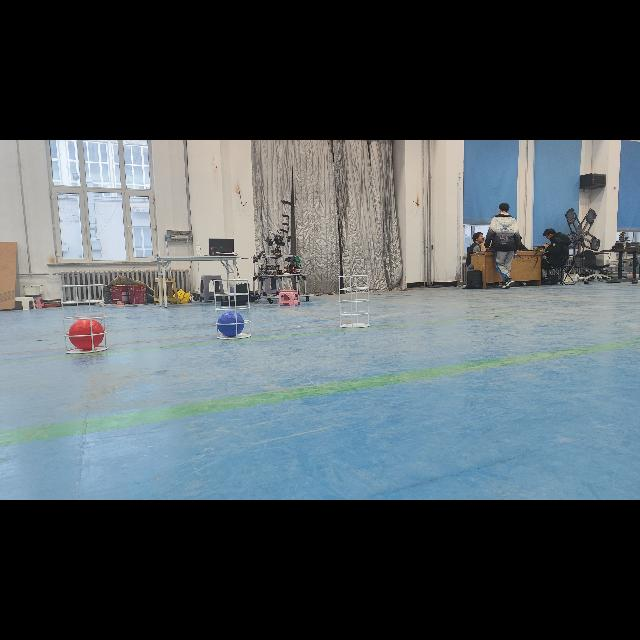B: (217, 312, 247, 336)
R: (67, 319, 105, 351)
S: (58, 282, 112, 356), (208, 278, 254, 340), (334, 274, 374, 330)
